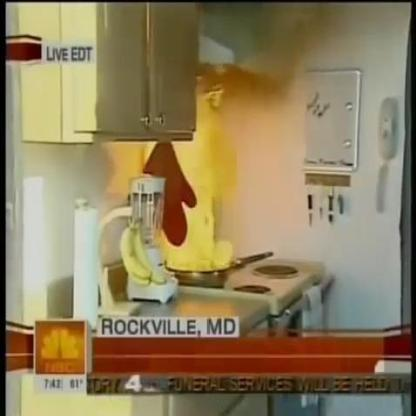fire: (162, 113, 237, 277)
